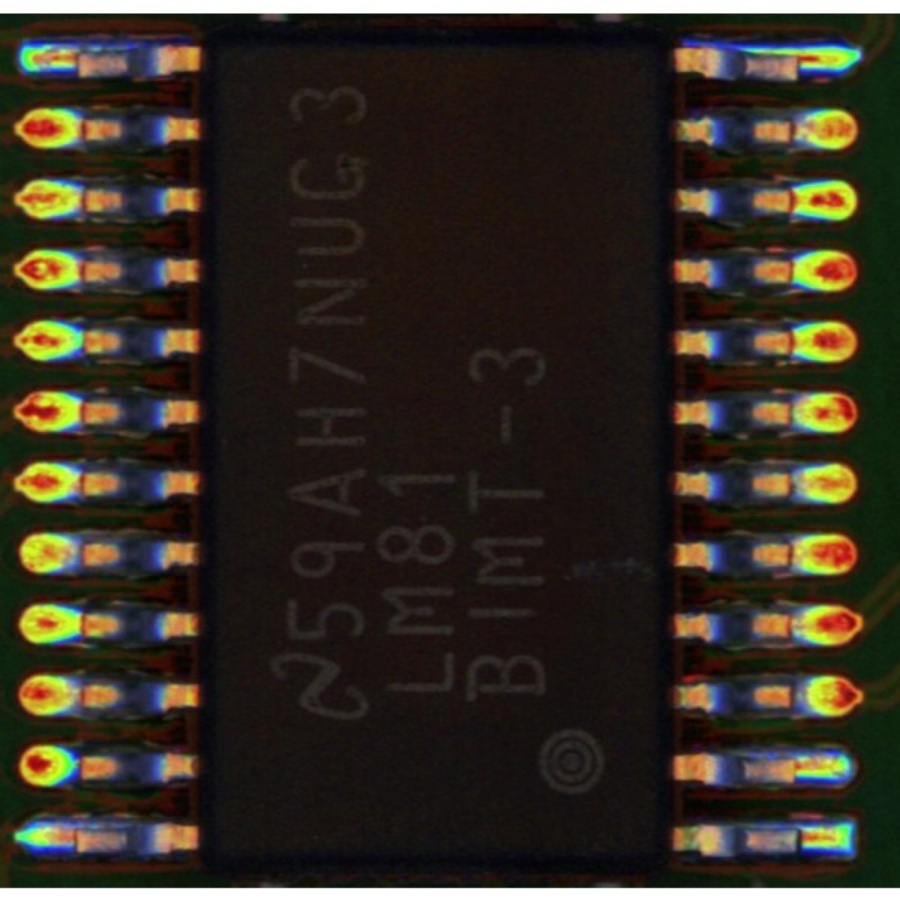Bad_podu: (771, 117, 820, 139), (59, 826, 91, 847), (785, 828, 829, 843), (53, 52, 91, 69), (784, 758, 817, 774), (787, 55, 810, 68)
Bad_qiaojiao: (737, 47, 796, 56)
